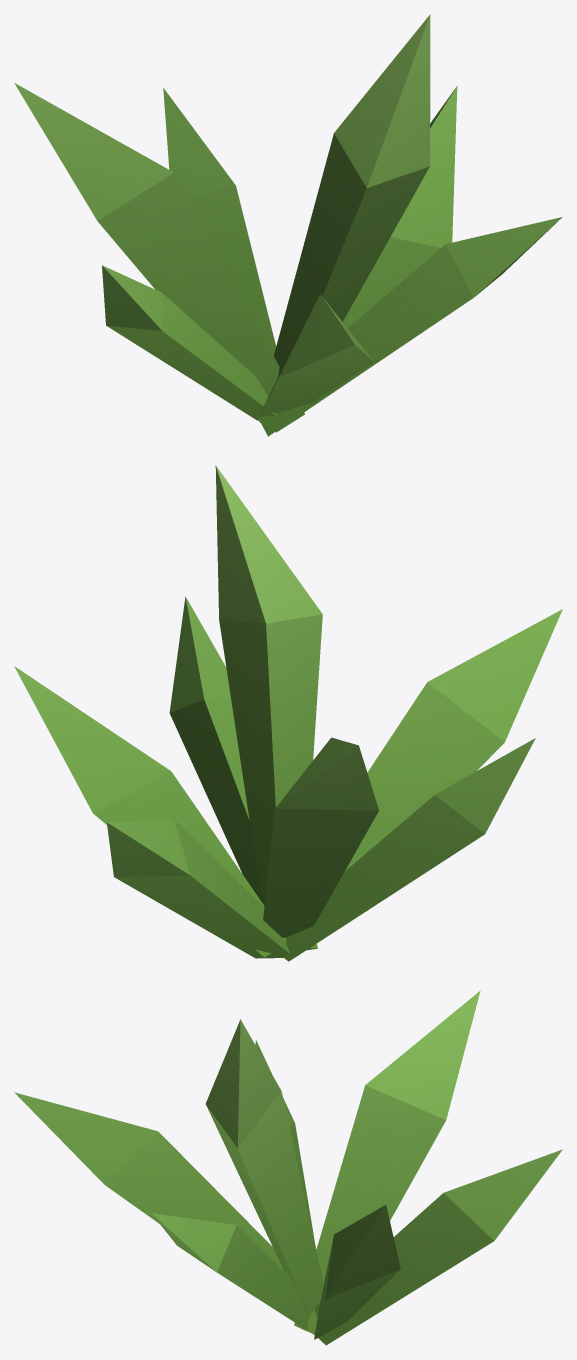
The picture shows the model from 3 angles, top to bottom: view 1: azimuth 30°, elevation 25°; view 2: azimuth 150°, elevation 25°; view 3: azimuth 270°, elevation 25°; orthographic projection. The views are drawn at different scales.
Parts seen in each view (by area): view 1: XC_03; view 2: XC_03; view 3: XC_03.
Boxes of the visible parts, bbox=[...] form: XC_03: bbox=[14, 14, 562, 436]; XC_03: bbox=[14, 465, 562, 961]; XC_03: bbox=[14, 990, 562, 1345].
Bounding box in the file's own units: 0.5984 × 0.5581 × 0.7634.
